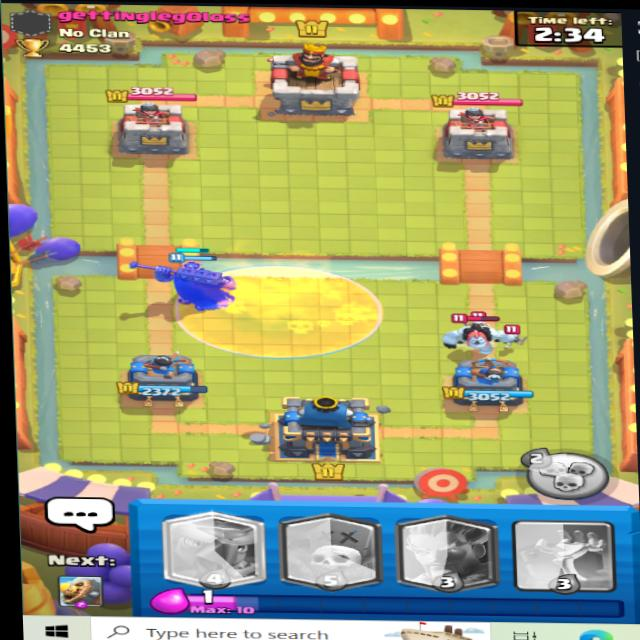ice-golem: (446, 320, 516, 356)
skeleton: (462, 310, 496, 329), (499, 325, 522, 344)
